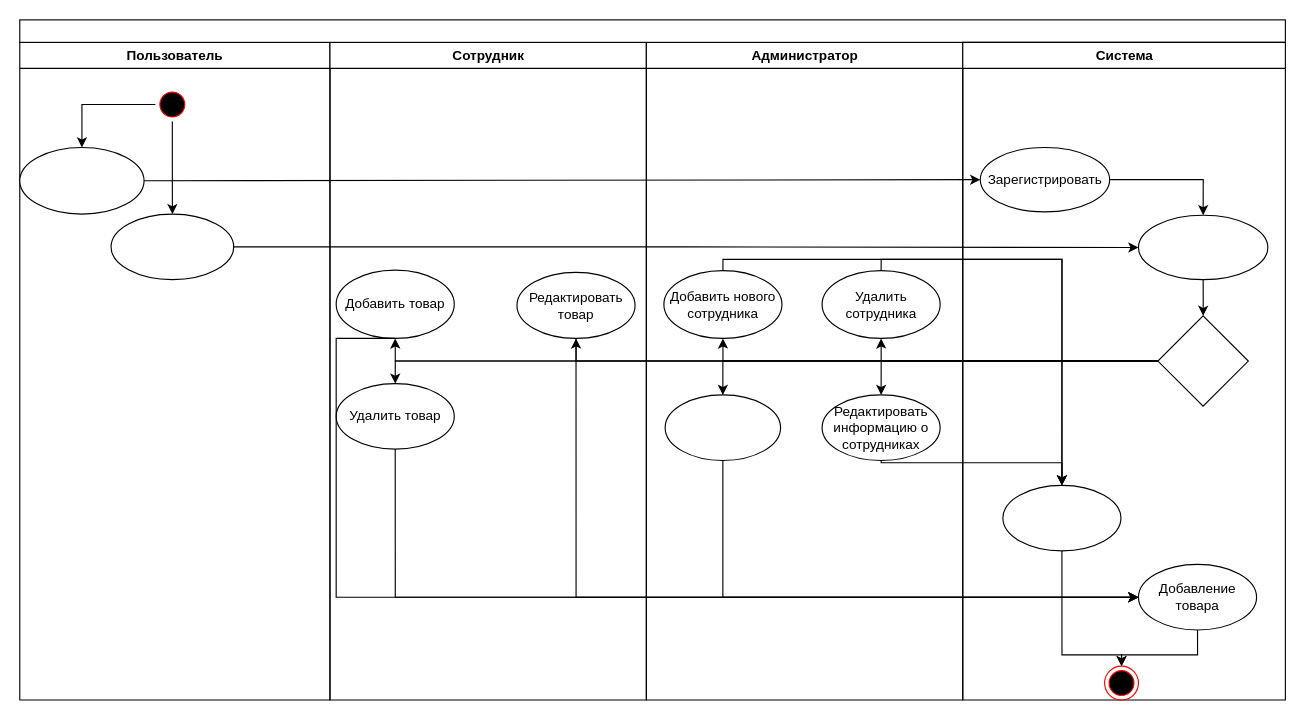
The diagram is 1305 pixels wide and 720 high, and some of its shapes have lost their labels. The centre of each missing label's shape, as x and y in pixels:
Авторизация: point (172, 246)
Авторизировать: point (1202, 247)
Выполнение действия над сотрудником: point (1061, 517)
Информационная система "Складской комплекс": point (652, 30)
Просмотр товаров: point (722, 427)
Регистрация: point (81, 180)
